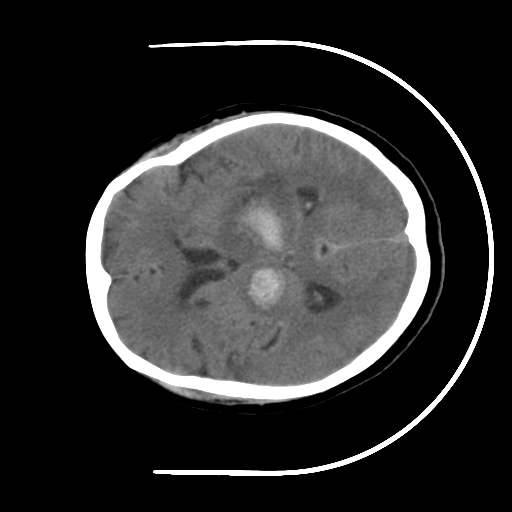a: (214, 162, 312, 328)
